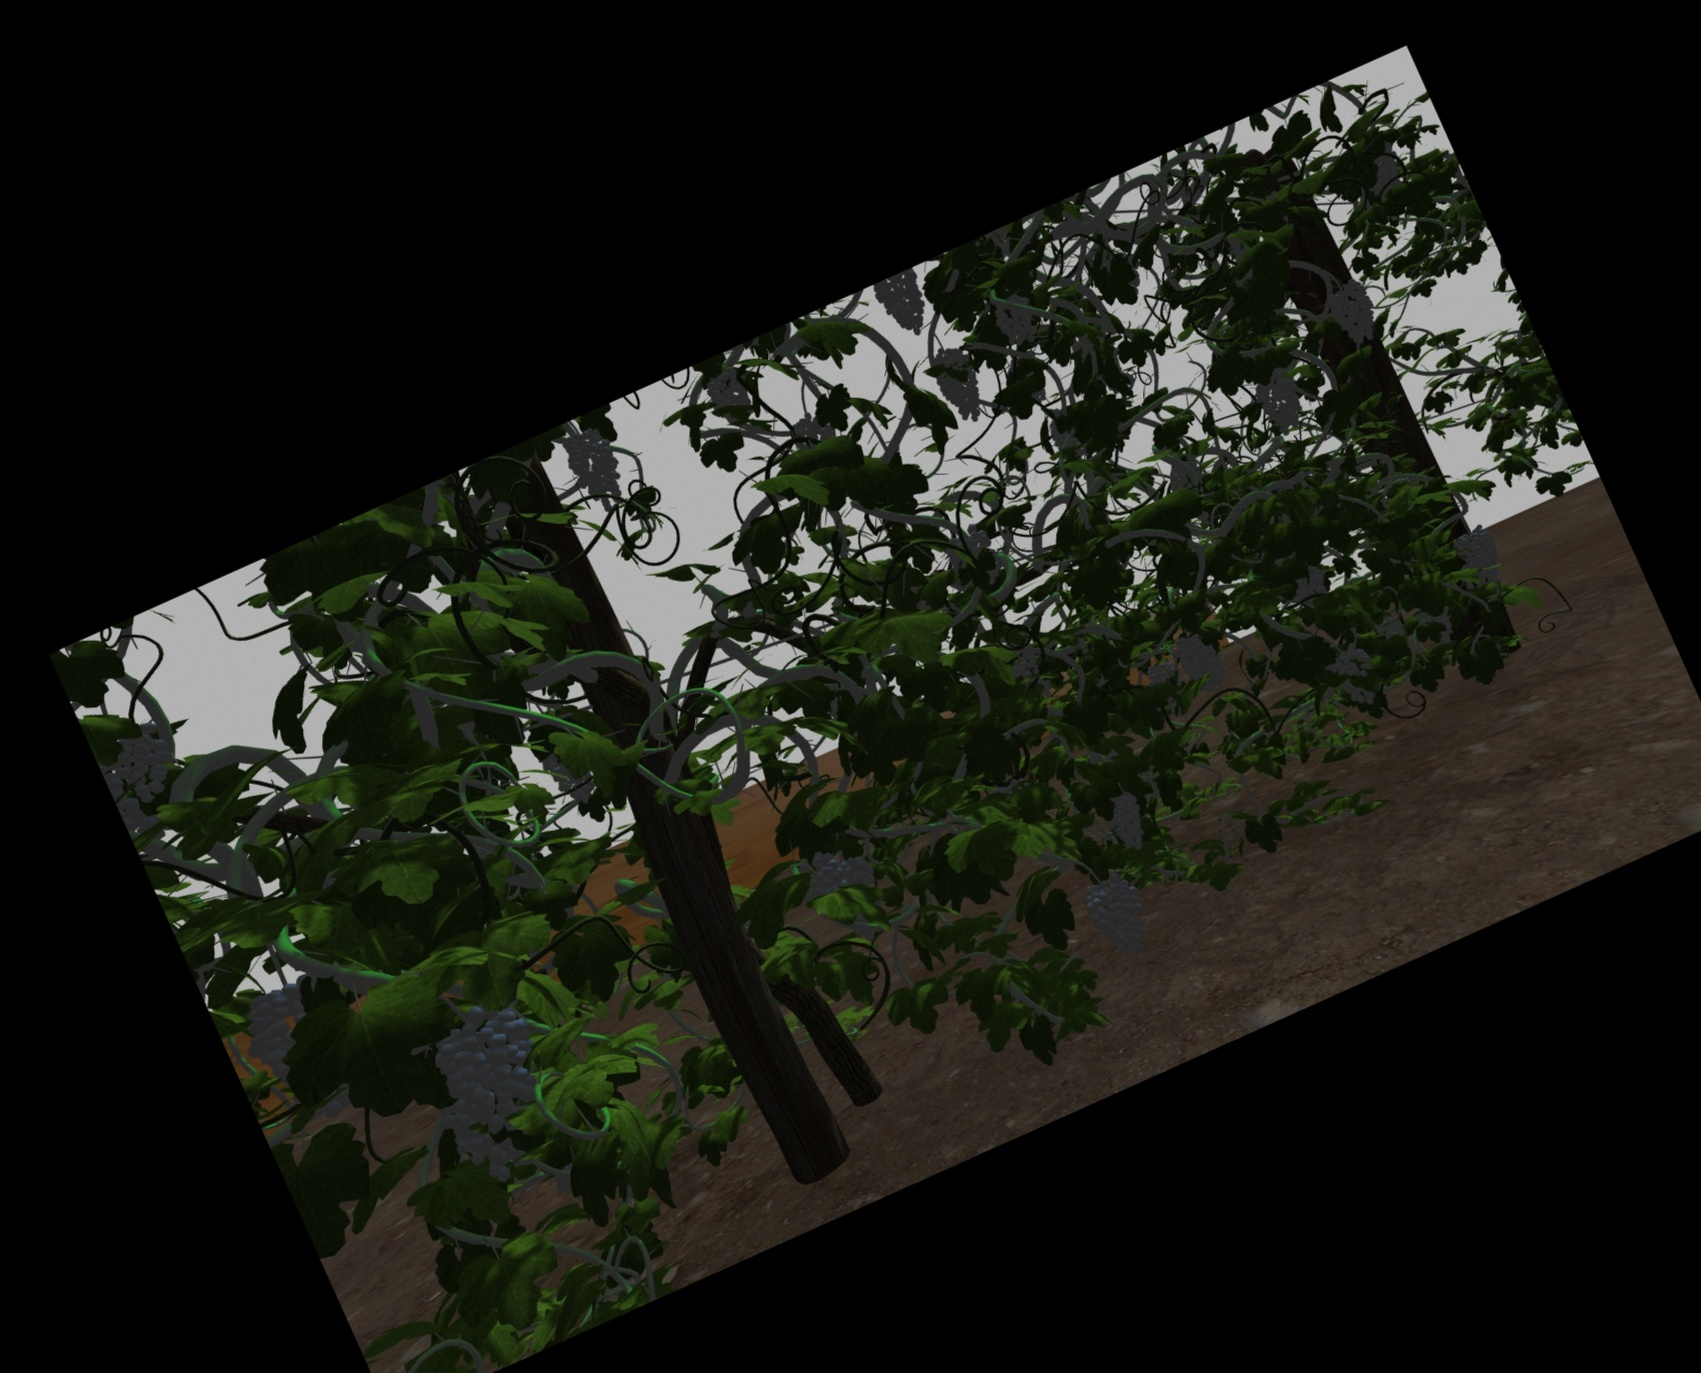grape: (475, 1000, 532, 1110), (813, 849, 874, 941), (245, 992, 312, 1075), (443, 1028, 492, 1138), (458, 1098, 504, 1184), (1093, 871, 1141, 953), (573, 430, 621, 509), (120, 733, 170, 797), (939, 346, 979, 422), (1260, 370, 1302, 433), (1332, 282, 1375, 343), (884, 280, 928, 338), (1460, 527, 1501, 584), (1183, 630, 1222, 689), (712, 367, 750, 427), (1107, 792, 1143, 850), (1340, 644, 1375, 703), (996, 293, 1033, 345)
